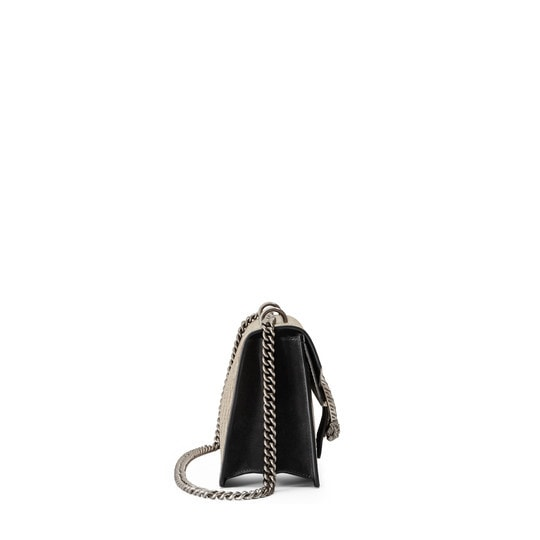Gucci: (192, 281, 364, 511), (308, 349, 363, 467)
